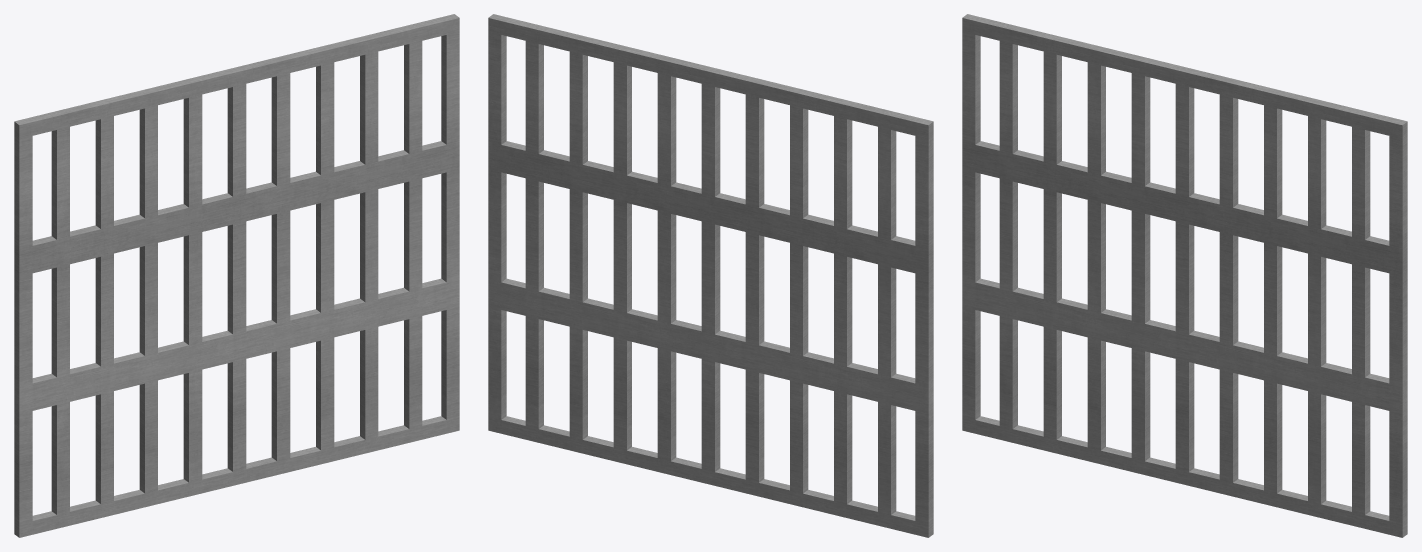
File: GradeSalaGeradores.dae
3 views of the same model, side by side, from view 1: azimuth 30°, elevation 25°; view 2: azimuth 150°, elevation 25°; view 3: azimuth 330°, elevation 25° (orthographic).
Parts seen in each view (by area): view 1: instance_0 (×13); view 2: instance_0 (×13); view 3: instance_0 (×13).
Part boxes in pixels (<box>): instance_0 (×13): <box>14,14,459,537</box>; instance_0 (×13): <box>488,14,933,537</box>; instance_0 (×13): <box>962,14,1407,537</box>.
Size of the model in its own units: 132 by 2.76 by 118.
1 material, 1 textured.
